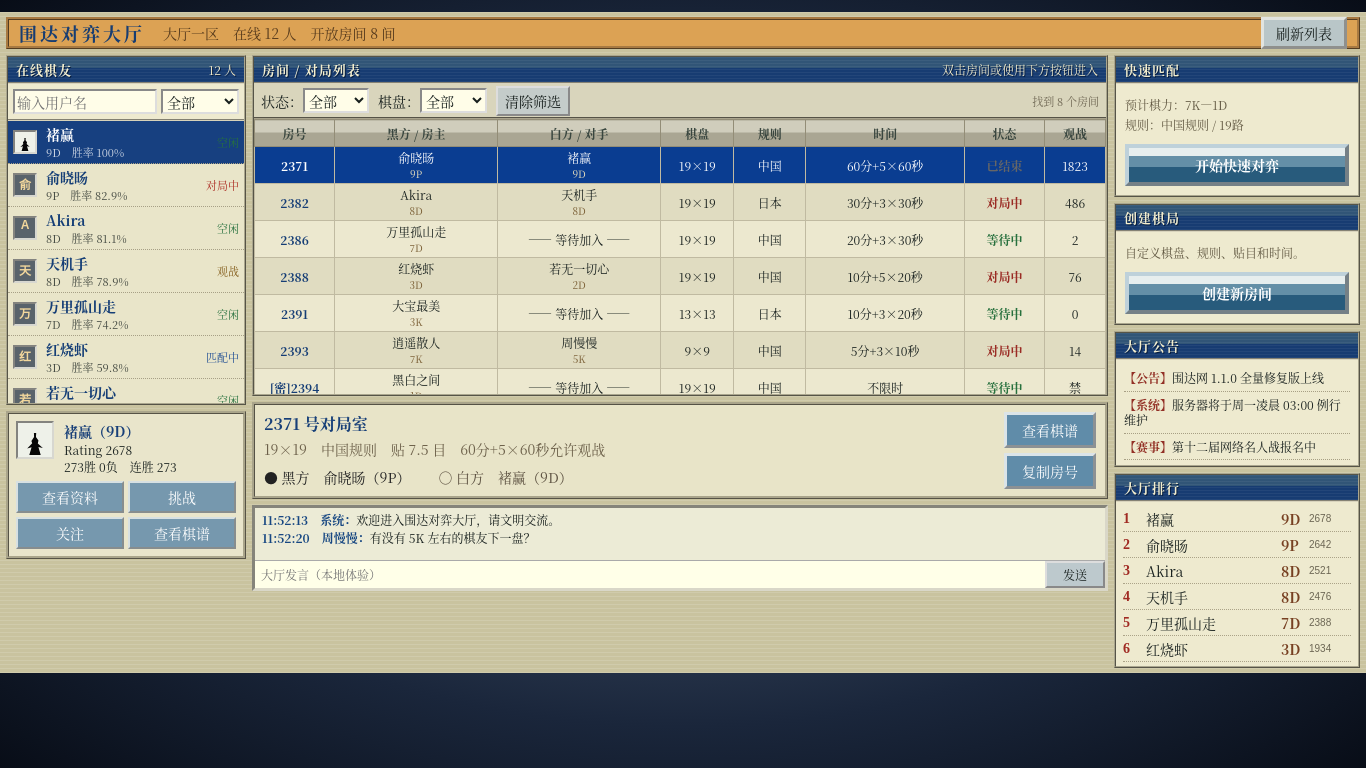
hall room dialog › uses the customary komi for the selected rule set
This screenshot has width=1366, height=768.
Click the button "创建新房间" at (1237, 293), box [1125,272,1349,314]
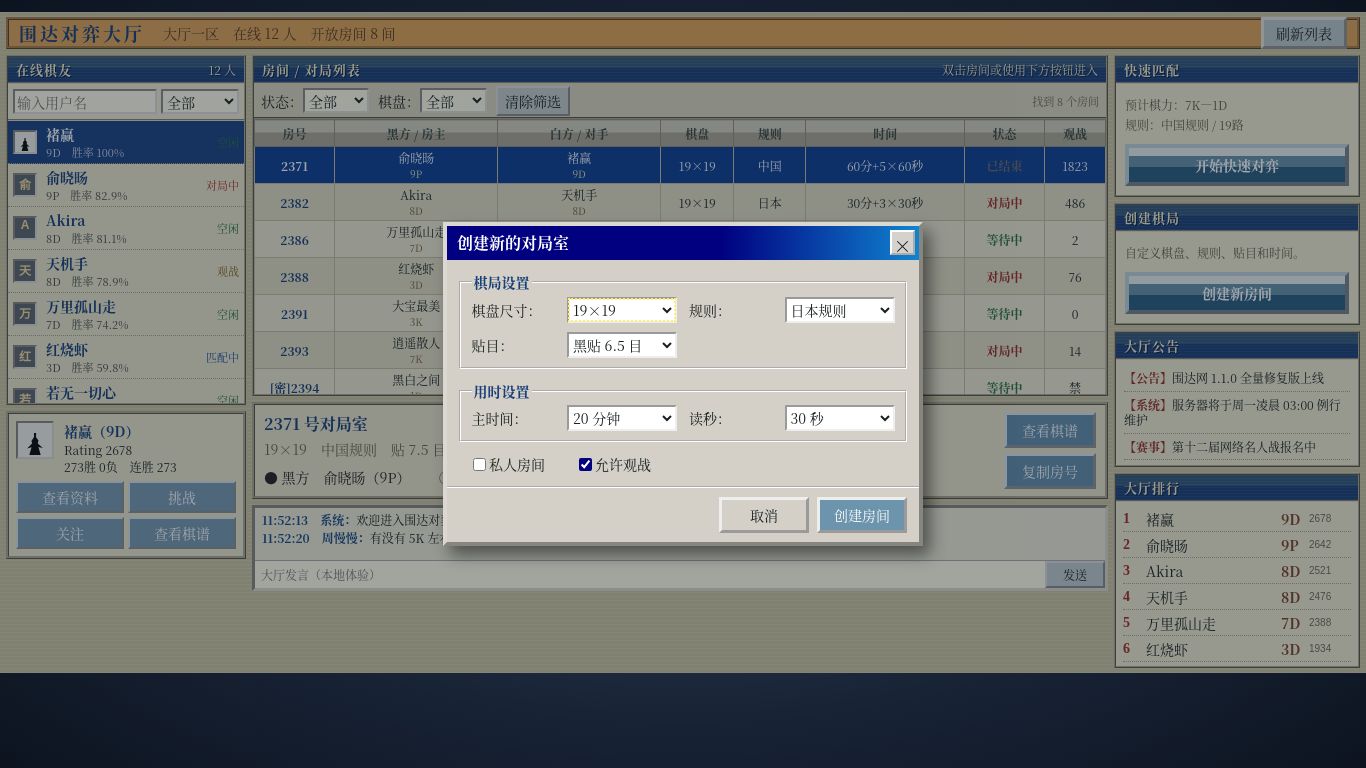
Now the dropdown labelled "规则：" shows "日本规则"
Now the dropdown labelled "贴目：" shows "黑贴 6.5 目", box [567,332,677,358]
Select "中国规则" in the dropdown labelled "规则：" at (840, 310), box [784,297,894,323]
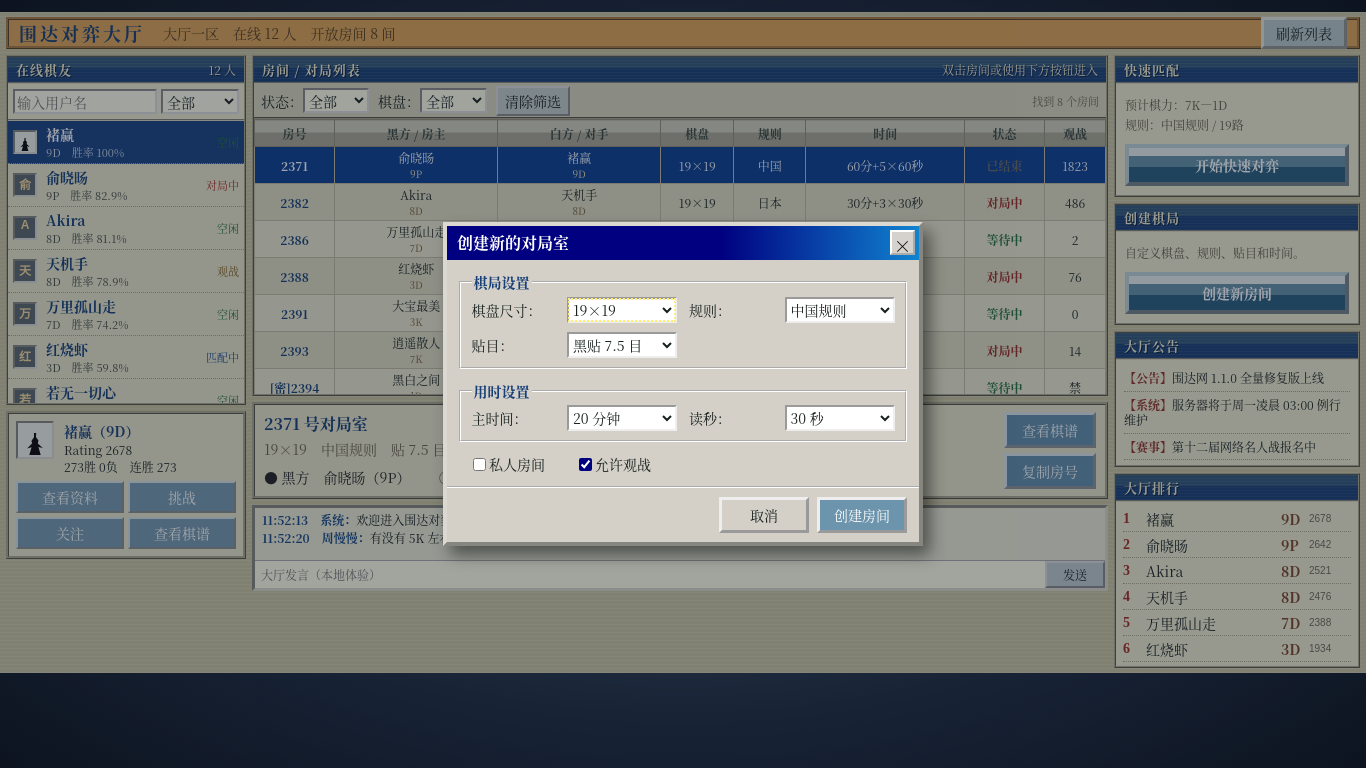
Now the dropdown labelled "贴目：" shows "黑贴 7.5 目", box [567,332,677,358]
Select "日本规则" in the dropdown labelled "规则：" at (840, 310), box [784,297,894,323]
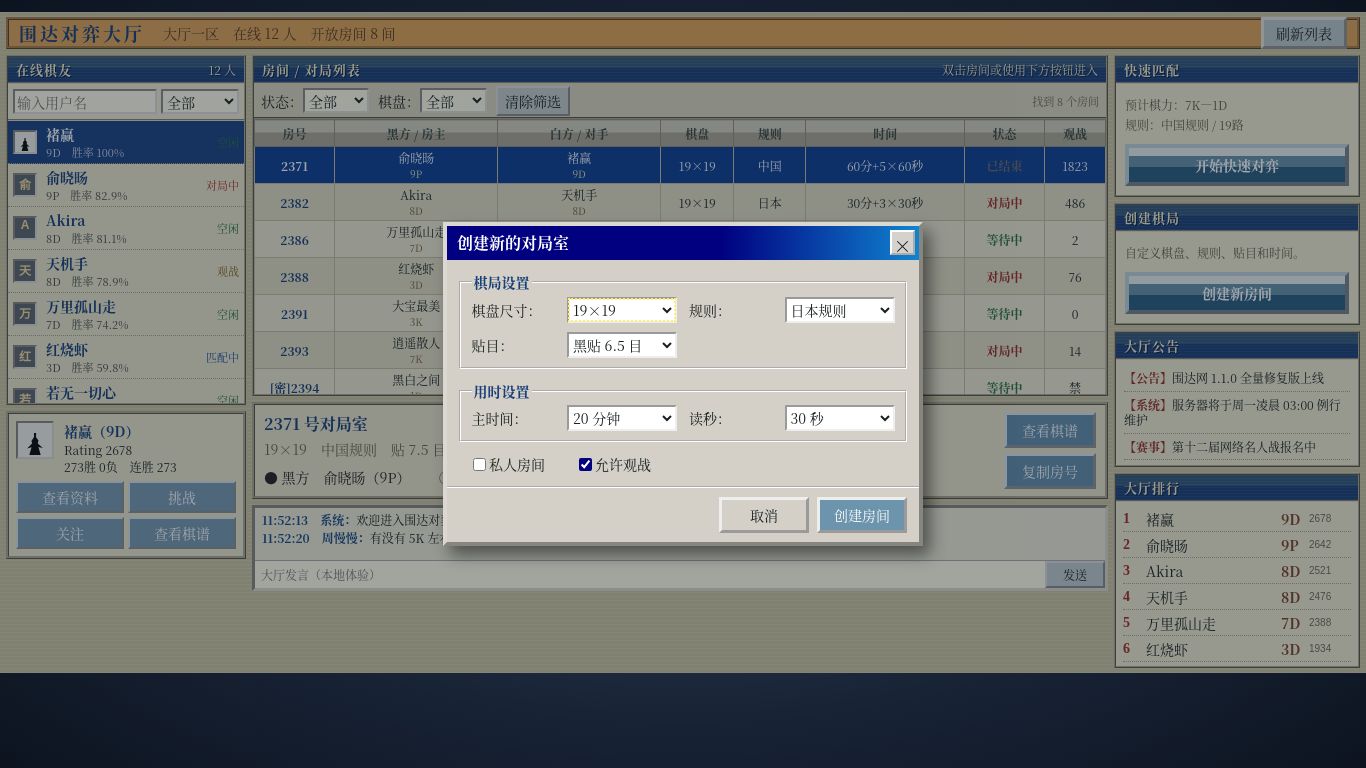
Now the dropdown labelled "贴目：" shows "黑贴 6.5 目", box [567,332,677,358]
